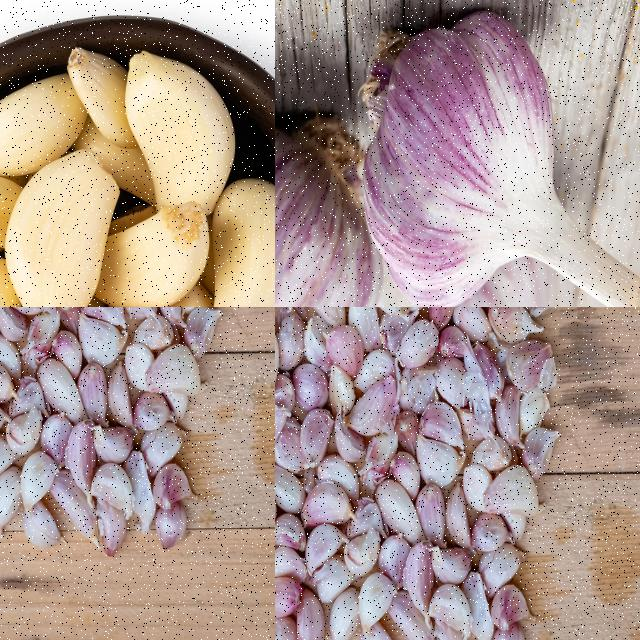garlic: (275, 307, 556, 639), (357, 6, 639, 306), (0, 307, 218, 550), (275, 98, 394, 306), (4, 143, 123, 306), (132, 54, 242, 223), (405, 241, 616, 306), (90, 206, 217, 306), (0, 67, 99, 185), (213, 175, 274, 306)
